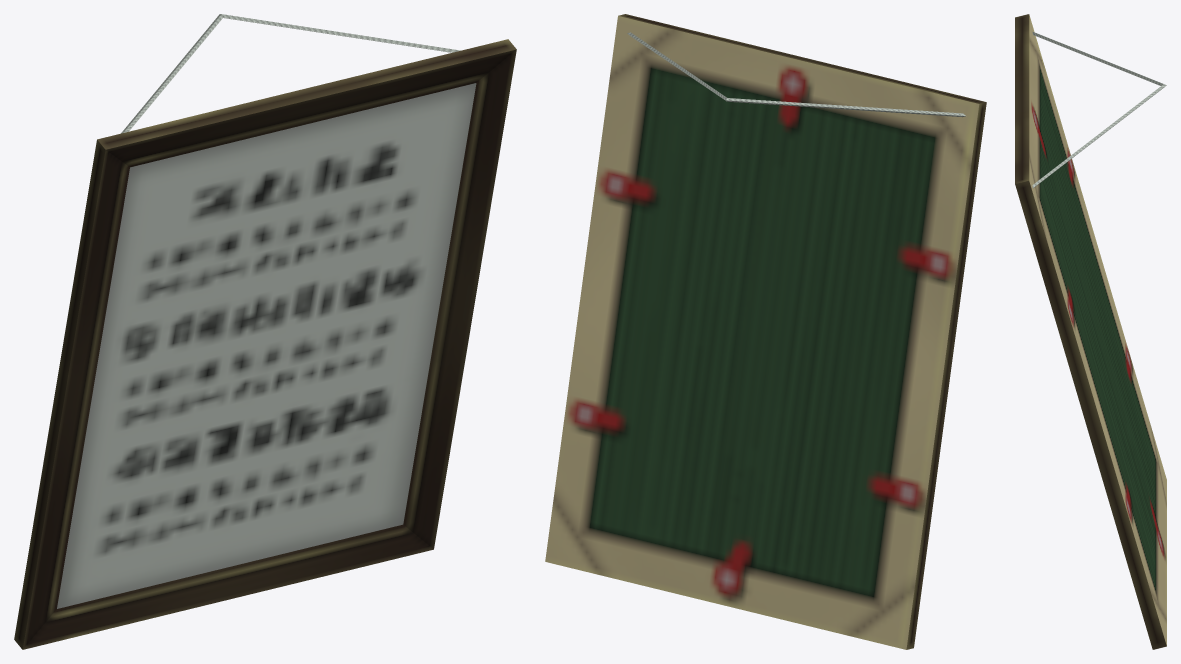
File: Paper_01_01.fbx
The picture shows the model from 3 angles, left to right: view 1: azimuth 30°, elevation 25°; view 2: azimuth 150°, elevation 25°; view 3: azimuth 270°, elevation 25°; orthographic projection. The views are drawn at different scales.
Visible parts, largest first — view 1: paper_01_01; view 2: paper_01_01; view 3: paper_01_01.
Part boxes in pixels (x1=…): paper_01_01: x1=14, y1=14, x2=516, y2=649; paper_01_01: x1=545, y1=14, x2=986, y2=649; paper_01_01: x1=1015, y1=14, x2=1166, y2=649.
Size of the model in its own units: 24.93 by 33.65 by 9.6.
